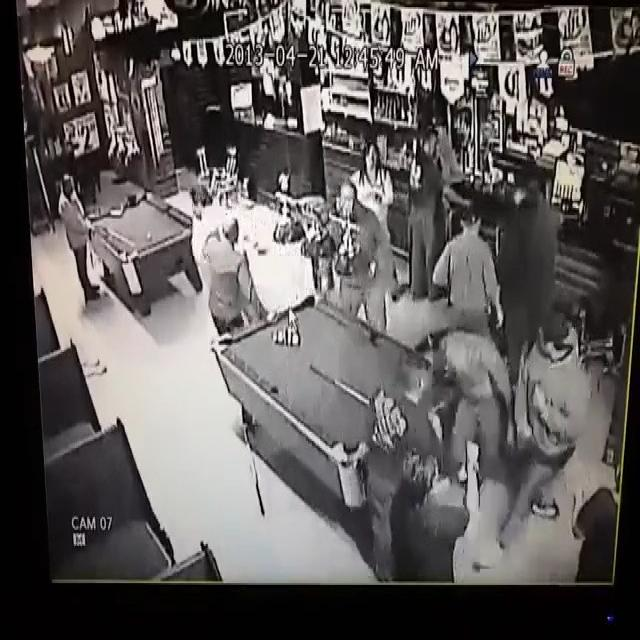fight: (379, 100, 494, 322)
